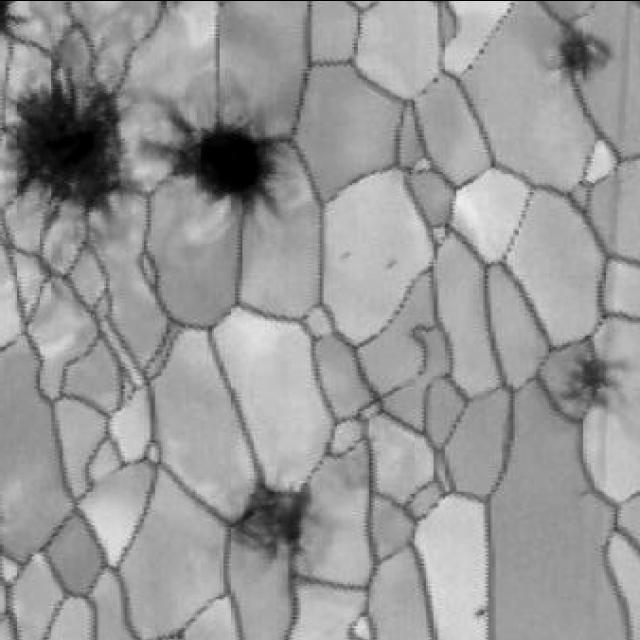good_void: (0, 73, 152, 231), (146, 109, 291, 216), (230, 475, 313, 561), (559, 340, 625, 412), (548, 27, 615, 83), (338, 244, 355, 263), (471, 603, 490, 619), (383, 257, 399, 271)
